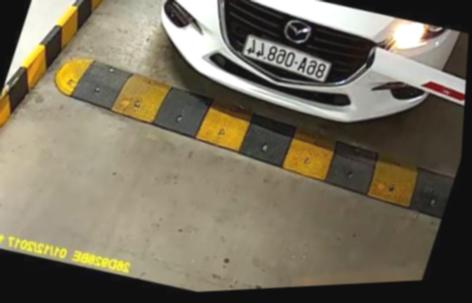License_Plate: (225, 28, 344, 91)
